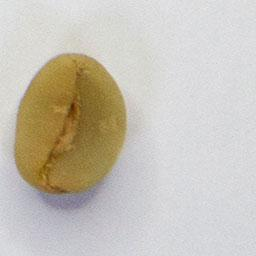defect: (9, 47, 133, 201)
